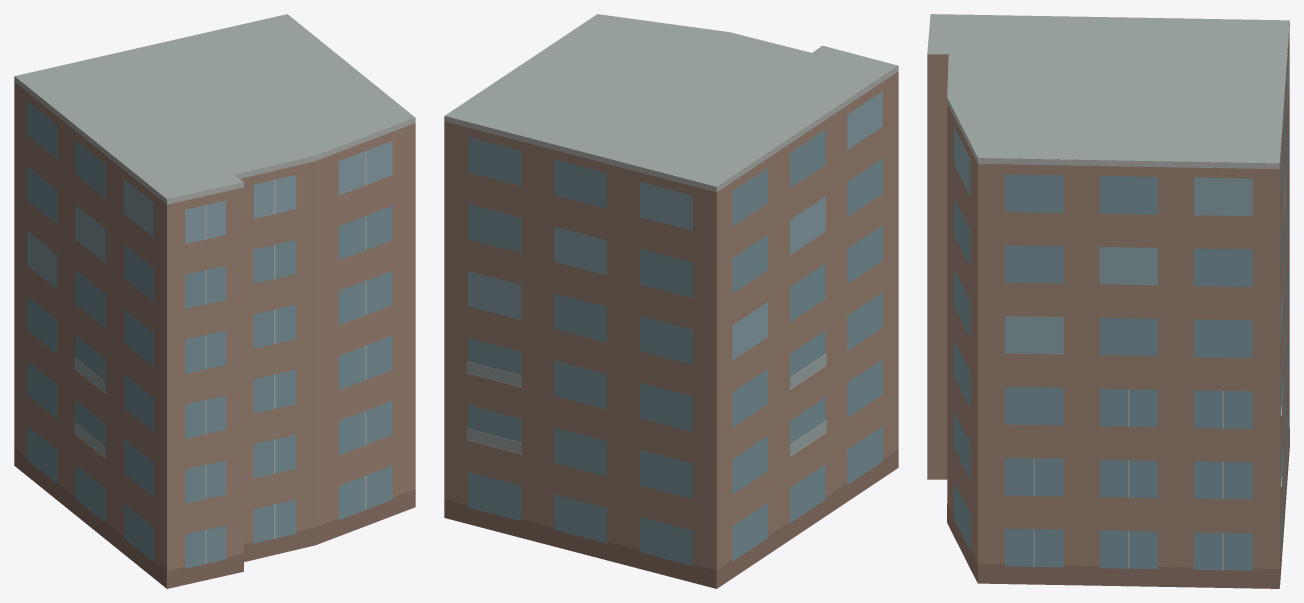
The model's file is survey-upis-32570182.glb.
The picture shows the model from 3 angles, left to right: view 1: azimuth 30°, elevation 25°; view 2: azimuth 150°, elevation 25°; view 3: azimuth 270°, elevation 25°; orthographic projection. The views are drawn at different scales.
Parts seen in each view (by area): view 1: survey-upis-32570182.tmp; view 2: survey-upis-32570182.tmp; view 3: survey-upis-32570182.tmp.
Boxes of the visible parts, box(x1,y1,x2,y2) form: survey-upis-32570182.tmp: box(14, 14, 415, 588); survey-upis-32570182.tmp: box(444, 14, 898, 588); survey-upis-32570182.tmp: box(927, 14, 1289, 588).
Bounding box in the file's own units: 13.33 × 17.7 × 13.68.
